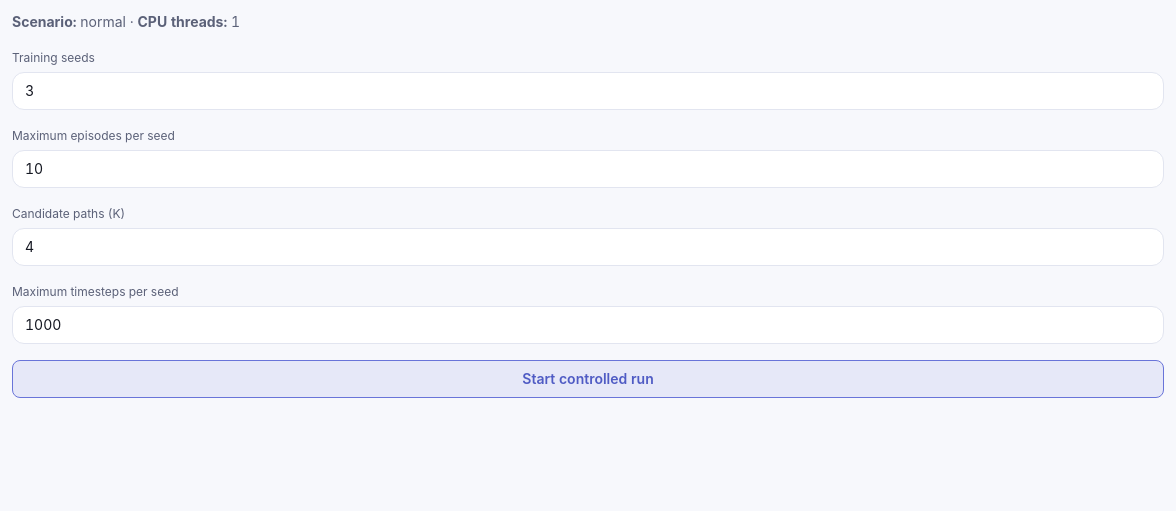
TrainingForm › rejects out-of-budget seeds, episodes, paths, and timesteps
Replace the text in the number field labelled "Training seeds" with "2" at {"x": 588, "y": 91}, box left=12, top=72, right=1164, bottom=110
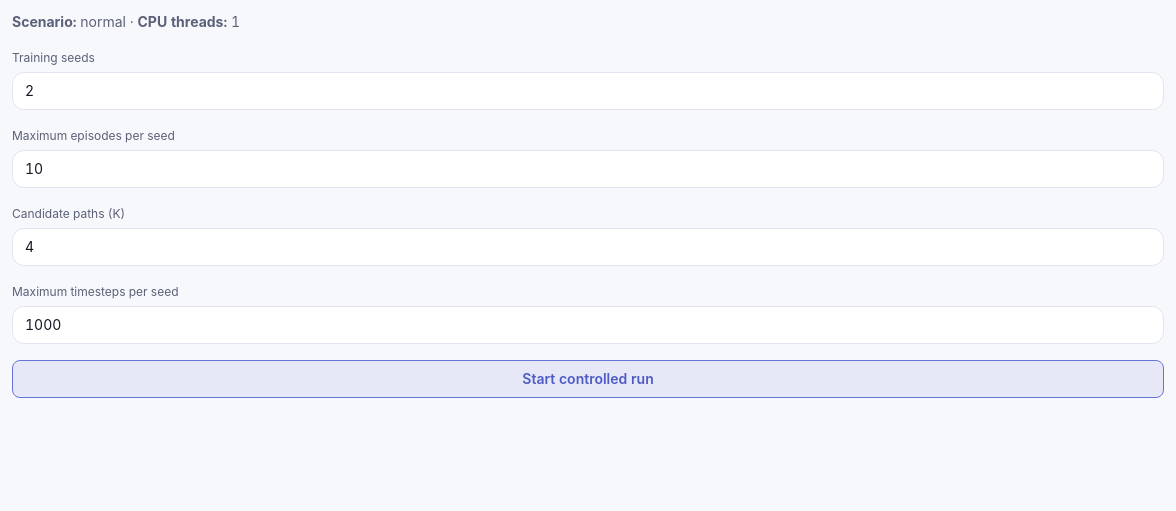
Replace the text in the number field labelled "Maximum episodes per seed" with "1001" at {"x": 588, "y": 169}, box left=12, top=150, right=1164, bottom=188
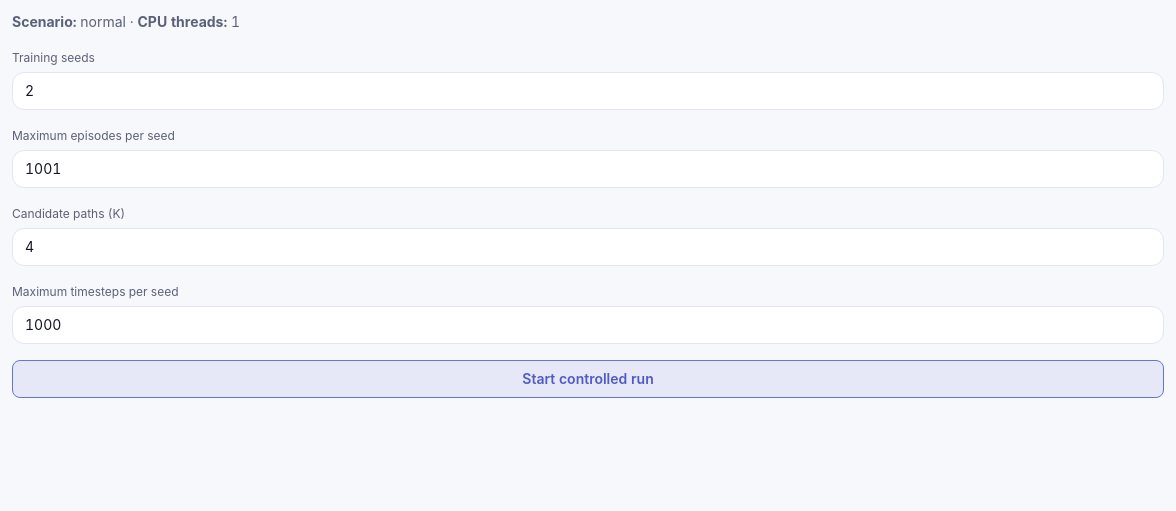
Replace the text in the number field labelled "Candidate paths (K)" with "17" at {"x": 588, "y": 247}, box left=12, top=228, right=1164, bottom=266
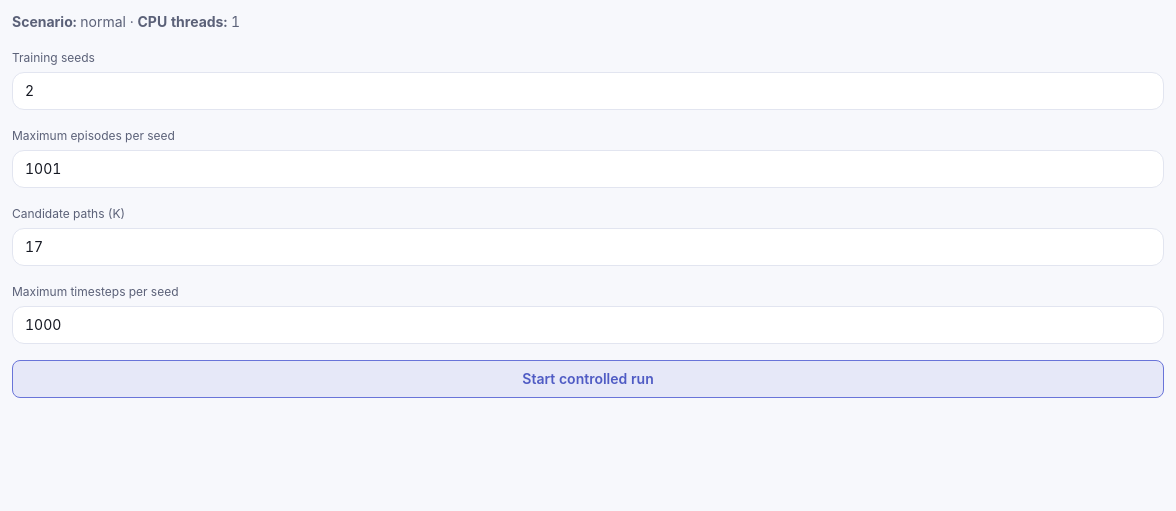
Replace the text in the number field labelled "Maximum timesteps per seed" with "0" at {"x": 588, "y": 325}, box left=12, top=306, right=1164, bottom=344
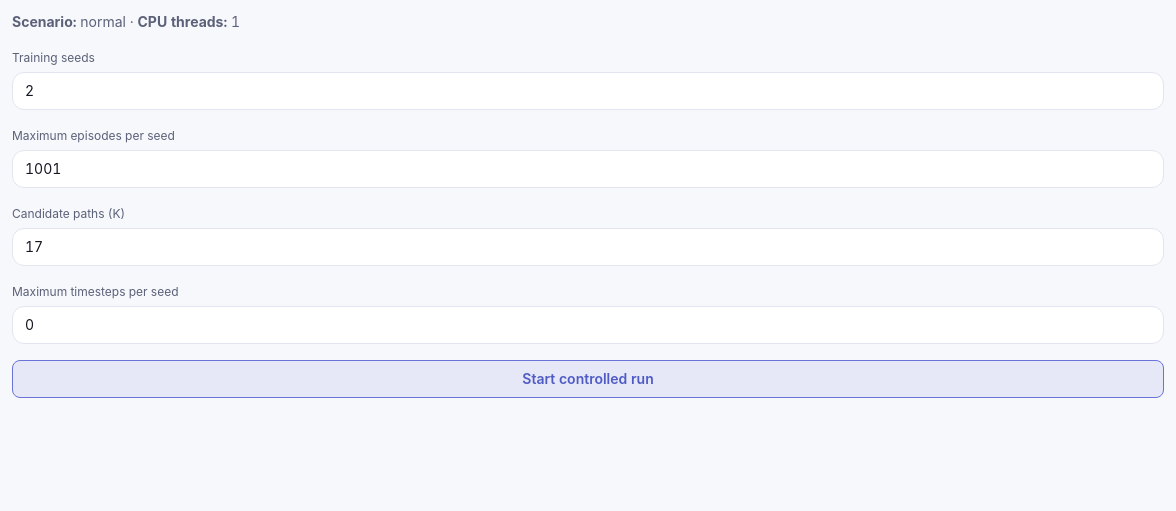
Click the button "Start controlled run" at {"x": 588, "y": 379}, box left=12, top=360, right=1164, bottom=398
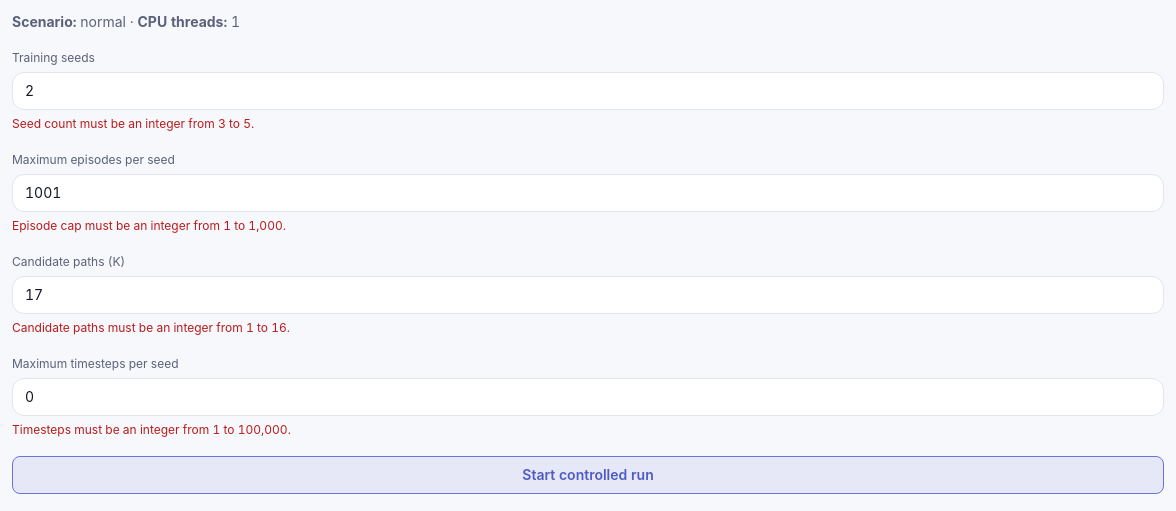
expect the text "Seed count must be an integer from 3 to 5." is shown: met, box left=12, top=116, right=254, bottom=131
expect the text "Episode cap must be an integer from 1 to 1,000." is shown: met, box left=12, top=218, right=286, bottom=233
expect the text "Candidate paths must be an integer from 1 to 16." is shown: met, box left=12, top=320, right=290, bottom=335
